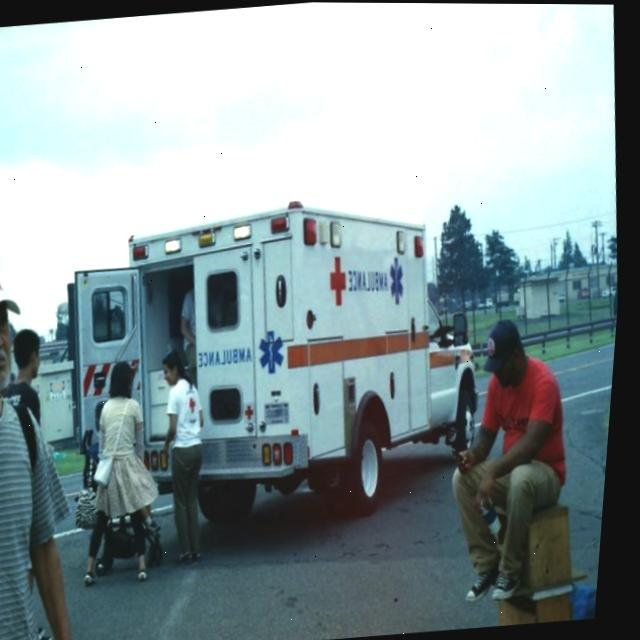emergency: (42, 180, 510, 542)
